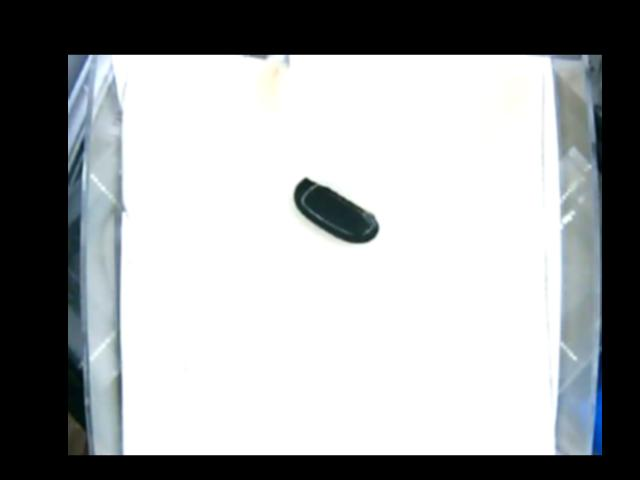Pebble: (294, 176, 377, 244)
